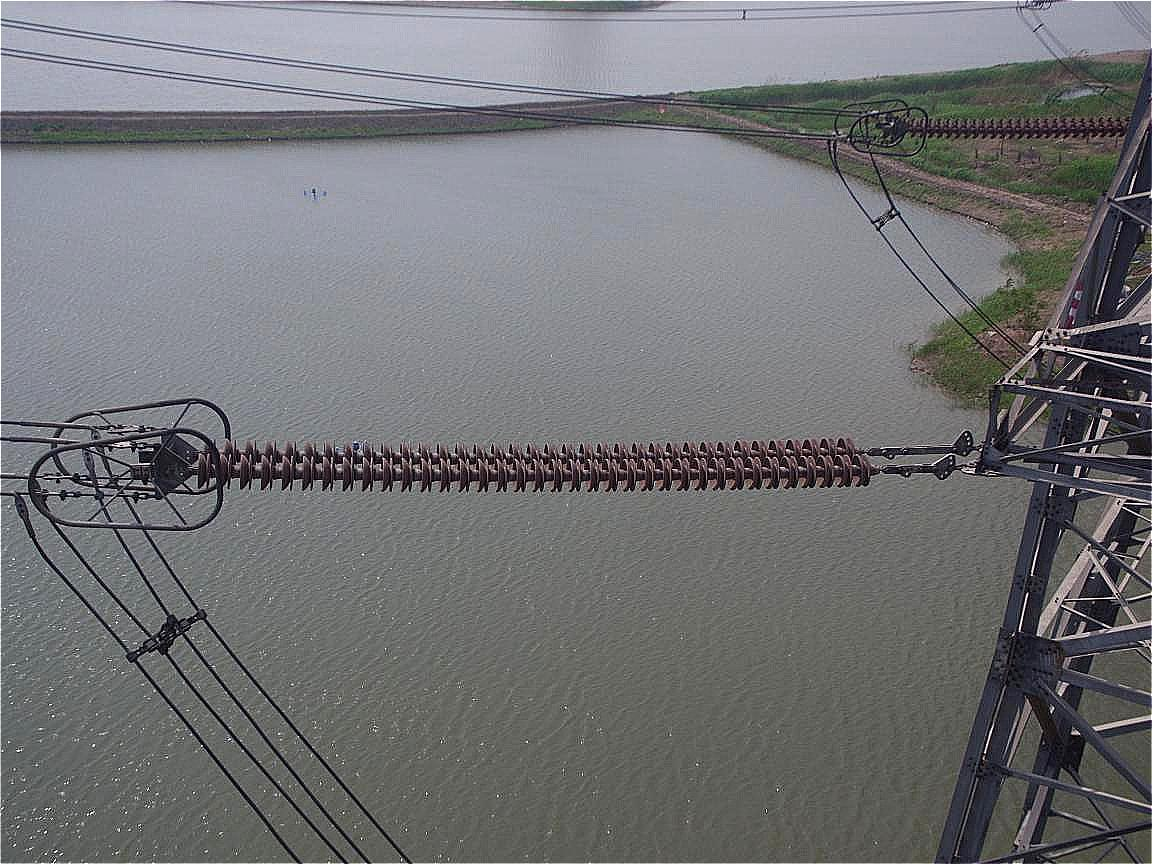insultor2: (177, 424, 903, 513)
